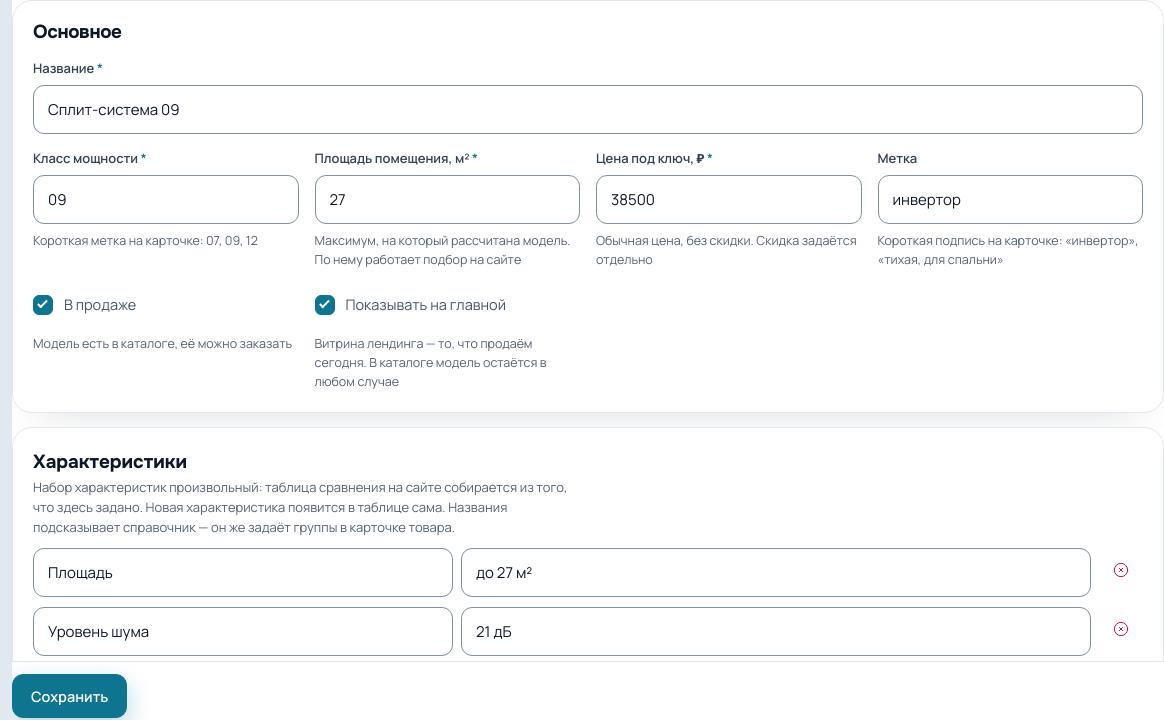
Test: Форма модели каталога › ошибка поля снимается на первом же вводе
Click the button "Сохранить".
click(70, 696)  # box [12,674,127,718]
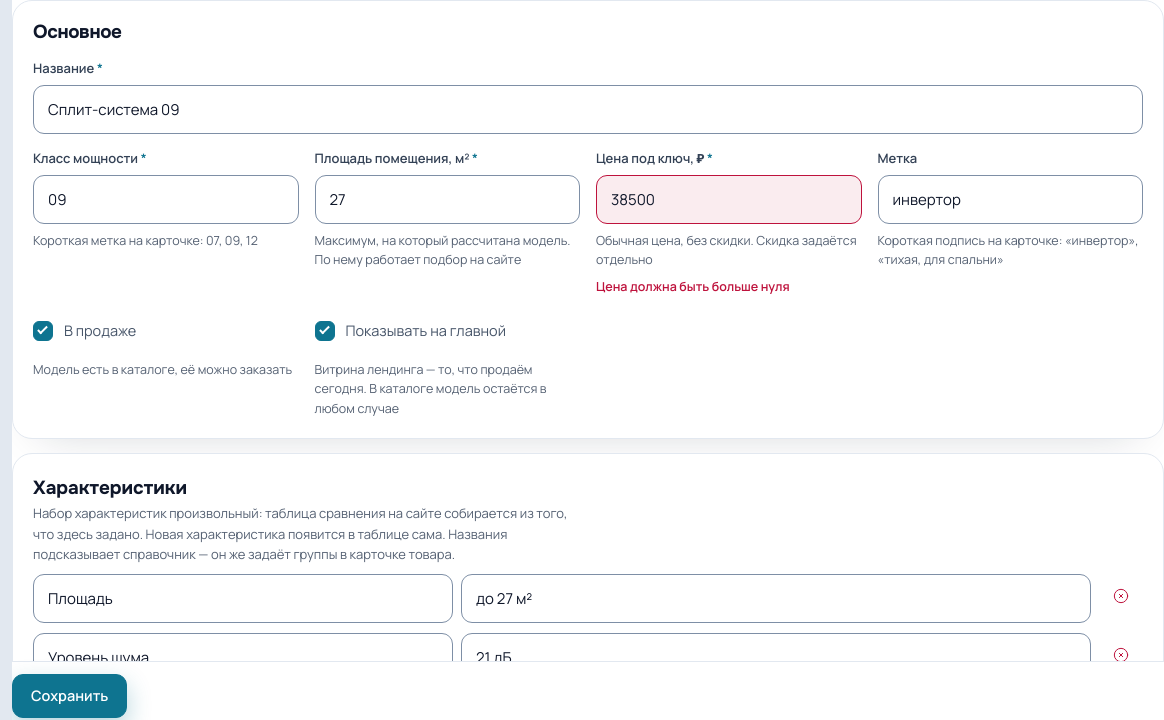
Check: the text "Цена должна быть больше нуля" is shown, box [596,278,790,295]
Type "1" into the number field labelled "Цена под ключ, ₽ *".
click(729, 199); type("1")  # box [596,175,862,224]
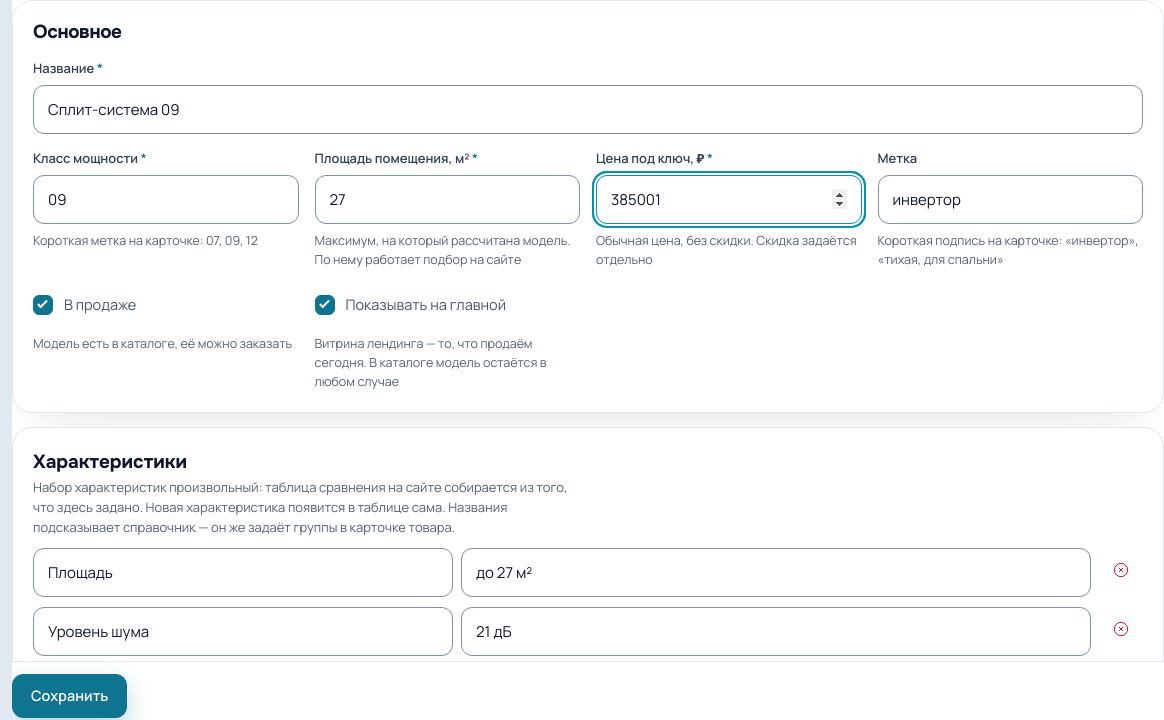
Check: the text "Цена должна быть больше нуля" is gone
